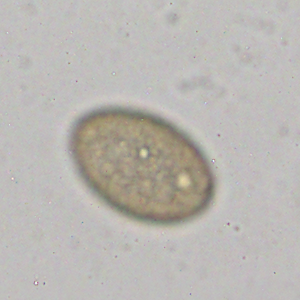Fasciola_hepatica_egg: (69, 106, 215, 224)
